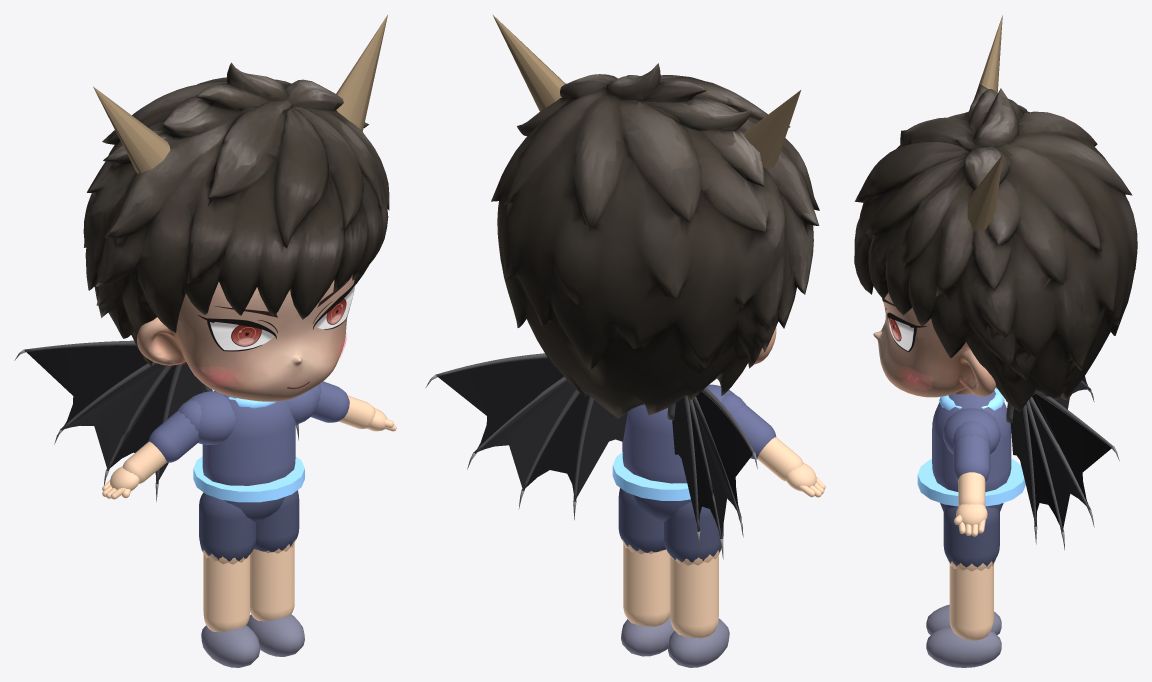
File: dusk.glb
The picture shows the model from 3 angles, left to right: view 1: azimuth 30°, elevation 25°; view 2: azimuth 150°, elevation 25°; view 3: azimuth 270°, elevation 25°; orthographic projection. The views are drawn at different scales.
Visible parts, largest first — view 1: Hair, Legs, HeadSkin, WingR, Upper, Head, ArmR, FaceArt, ArmL; view 2: Hair, Legs, WingL, WingR, Upper, Head, ArmR; view 3: Hair, Legs, WingL, Upper, HeadSkin, ArmL, Head, FaceArt.
Part boxes in pixels (box(x1,y1,x2,y2)): Hair: box(83, 62, 389, 365); Legs: box(199, 490, 304, 667); HeadSkin: box(137, 275, 354, 401); WingR: box(14, 340, 212, 501); Upper: box(188, 388, 318, 522); Head: box(93, 15, 387, 173); ArmR: box(102, 399, 201, 499); FaceArt: box(182, 273, 355, 388); ArmL: box(311, 381, 396, 431); Hair: box(491, 63, 819, 418); Legs: box(618, 488, 729, 667); WingL: box(425, 353, 627, 520); WingR: box(667, 387, 757, 559); Upper: box(612, 384, 734, 521); Head: box(492, 14, 800, 168); ArmR: box(722, 393, 825, 497); Hair: box(854, 84, 1137, 411); Legs: box(926, 507, 1001, 667); WingL: box(1006, 393, 1119, 550); Upper: box(917, 387, 1025, 512); HeadSkin: box(873, 292, 995, 397); ArmL: box(952, 421, 990, 536); Head: box(967, 15, 1002, 230); FaceArt: box(882, 298, 964, 389).
Bounding box in the file's own units: 1.84 × 3.27 × 1.46.
Materials: 13 (3 with a texture image).
